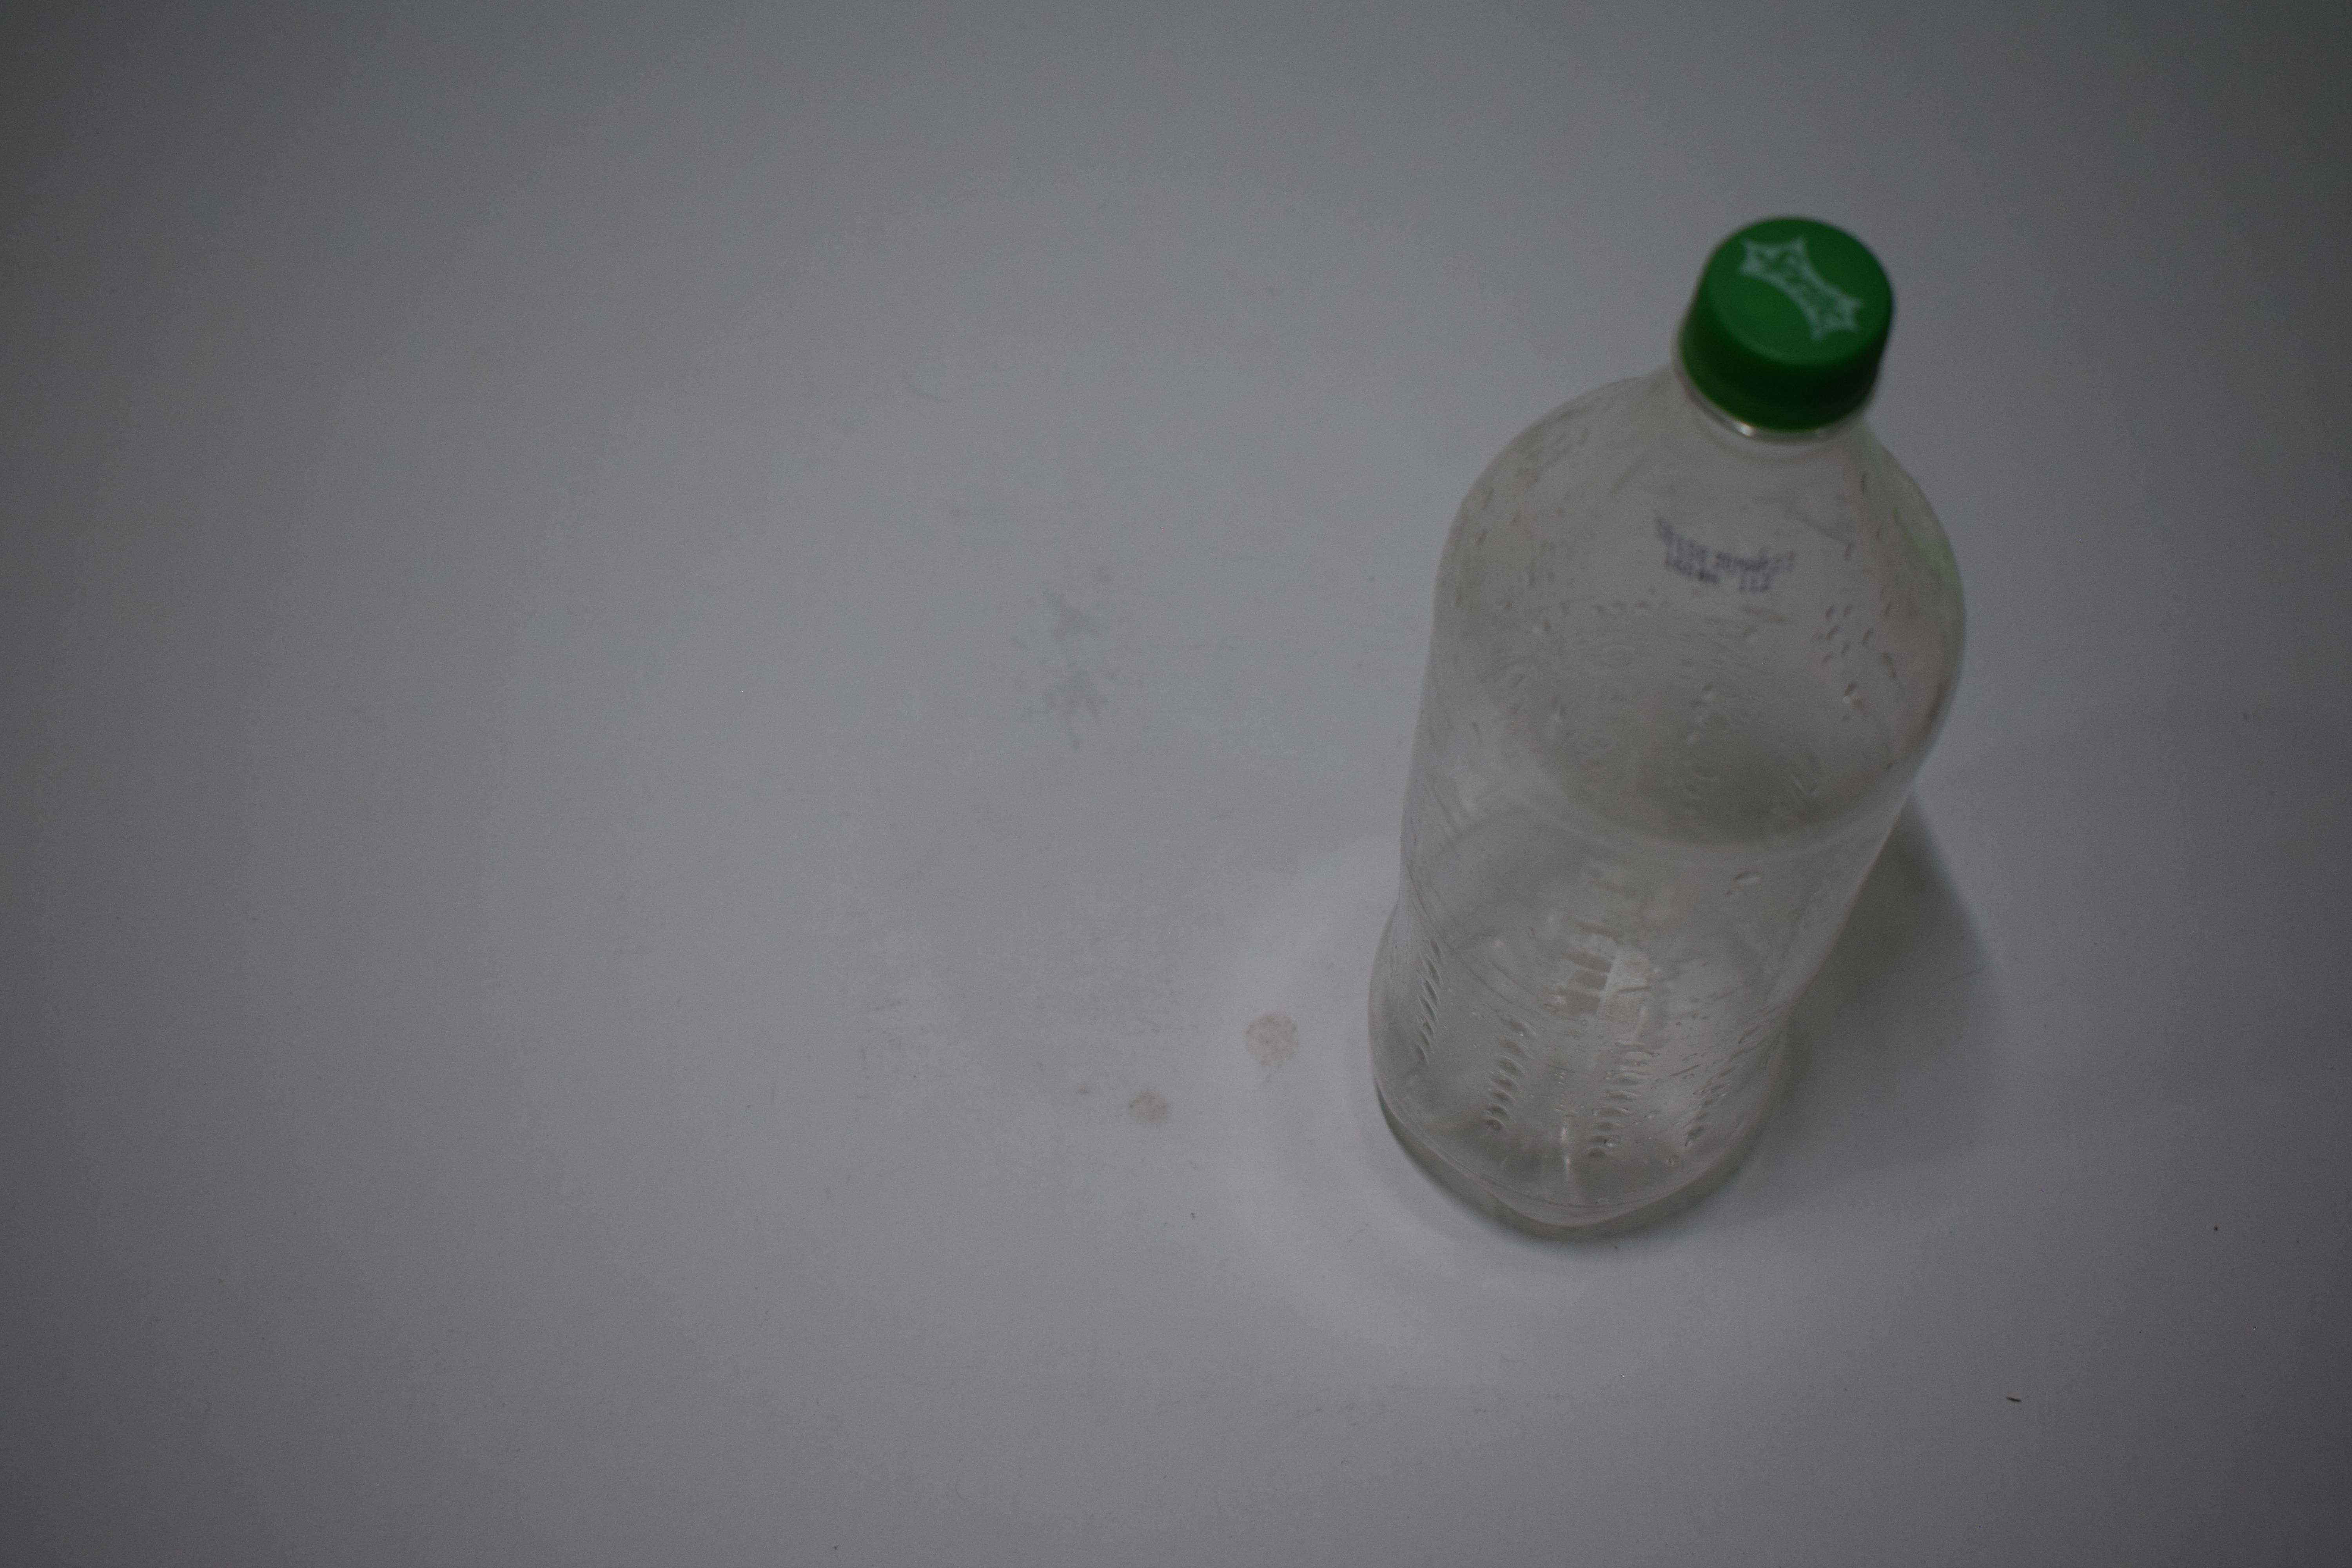bottle: (1369, 207, 1979, 1243)
